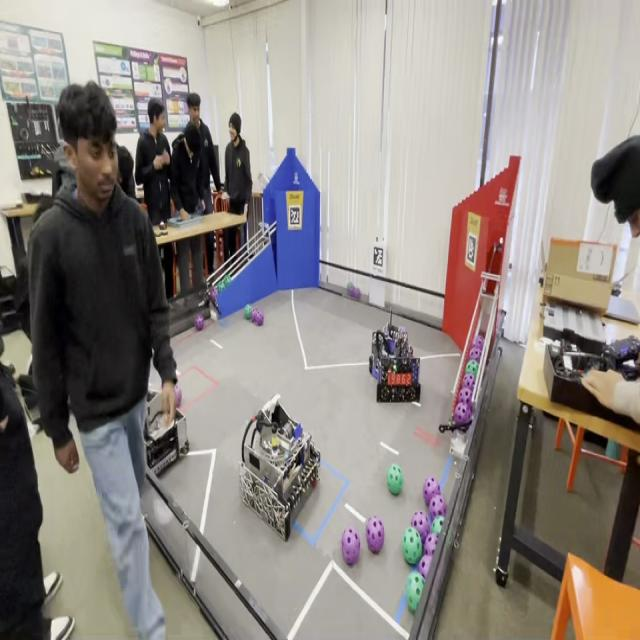artifact_green: (403, 527, 422, 566), (406, 572, 424, 613), (387, 464, 403, 495), (406, 571, 421, 591), (431, 516, 443, 535), (466, 361, 478, 376), (174, 384, 181, 407), (195, 315, 205, 331), (210, 286, 217, 304), (351, 287, 361, 299), (244, 305, 252, 319), (217, 279, 225, 292), (216, 281, 223, 293), (347, 281, 354, 292), (219, 277, 226, 287), (225, 275, 231, 286), (222, 275, 227, 285), (224, 279, 228, 289)
artifact_purple: (342, 528, 360, 565), (366, 516, 384, 553), (412, 511, 430, 542), (424, 477, 440, 506), (454, 402, 471, 425), (430, 496, 446, 520), (418, 554, 432, 579), (424, 533, 438, 555), (458, 388, 472, 404), (462, 374, 475, 391), (472, 335, 484, 350), (470, 348, 481, 362), (175, 386, 182, 407), (254, 310, 263, 325), (195, 315, 204, 330), (210, 286, 217, 303), (352, 287, 361, 299), (251, 307, 257, 323)
